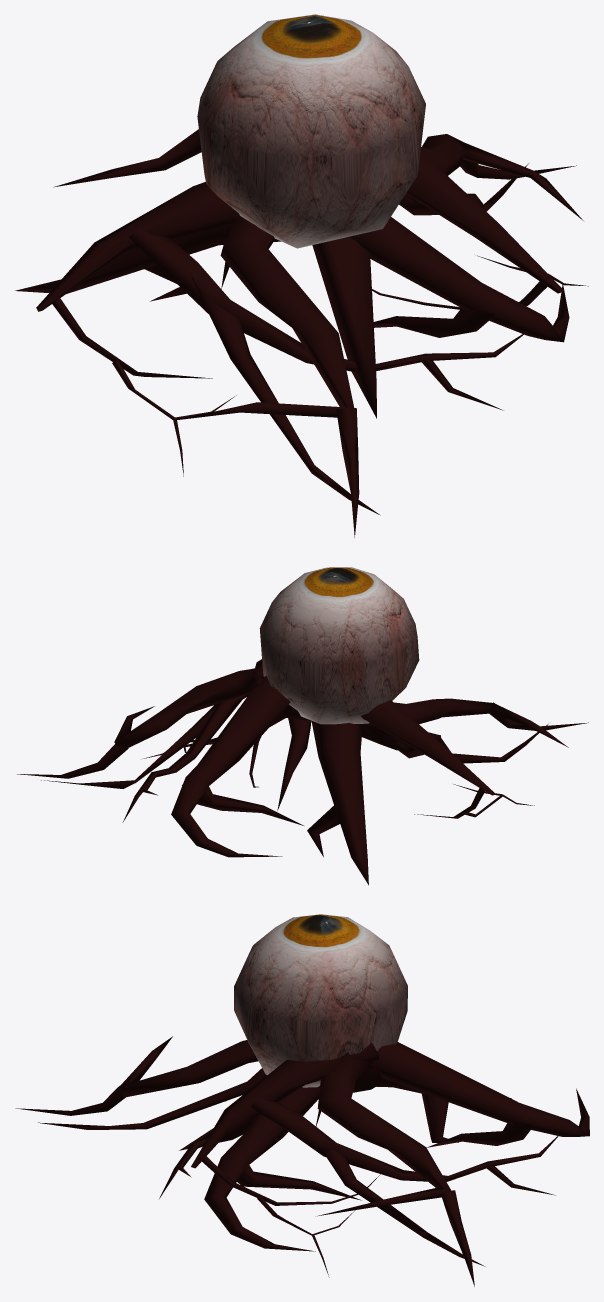
The model's file is EyeGuy.obj.
The picture shows the model from 3 angles, top to bottom: view 1: azimuth 30°, elevation 25°; view 2: azimuth 150°, elevation 25°; view 3: azimuth 270°, elevation 25°; orthographic projection. The views are drawn at different scales.
Visible parts, largest first — view 1: EyeGuy_Sphere.002; view 2: EyeGuy_Sphere.002; view 3: EyeGuy_Sphere.002.
Part boxes in pixels (<box>): EyeGuy_Sphere.002: <box>15,14,588,537</box>; EyeGuy_Sphere.002: <box>17,567,588,885</box>; EyeGuy_Sphere.002: <box>15,914,589,1286</box>.
Size of the model in its own units: 6.08 by 3.23 by 6.49.
Materials: 2 (1 with a texture image).
